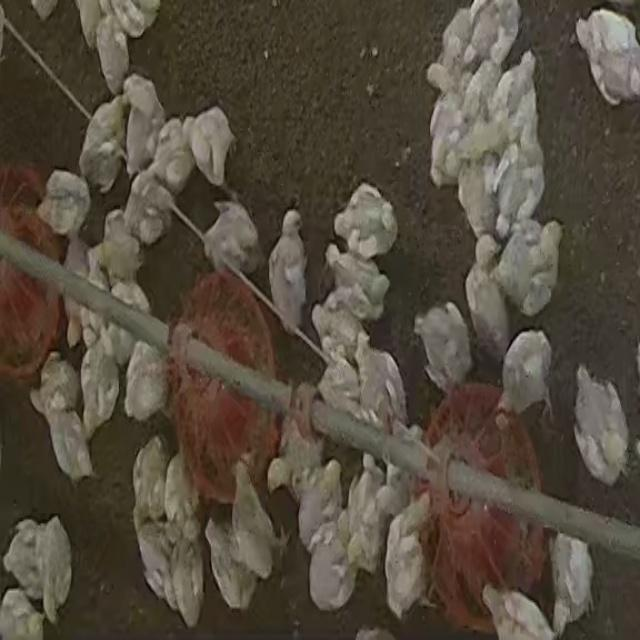chicken: (130, 433, 205, 626), (28, 352, 94, 482), (4, 514, 75, 627), (569, 363, 629, 487), (342, 452, 399, 579), (266, 389, 331, 499), (494, 215, 561, 320), (575, 5, 640, 106), (319, 242, 390, 328), (383, 501, 433, 623), (227, 462, 277, 580), (491, 138, 547, 243), (464, 236, 511, 359), (412, 303, 473, 394), (328, 182, 400, 257), (353, 335, 408, 433), (203, 195, 270, 274), (426, 77, 472, 192), (294, 454, 344, 557), (500, 328, 554, 423), (272, 210, 313, 332), (77, 98, 128, 194), (120, 168, 180, 249), (138, 118, 193, 204), (122, 73, 168, 174), (307, 517, 356, 611), (60, 226, 96, 350), (186, 106, 237, 192), (482, 582, 558, 639), (78, 333, 119, 438), (311, 295, 367, 371), (103, 278, 152, 363), (94, 207, 144, 290), (130, 437, 171, 532), (123, 342, 170, 424), (456, 157, 499, 243), (39, 170, 92, 238), (468, 0, 517, 62), (96, 14, 130, 94), (163, 452, 196, 532)
